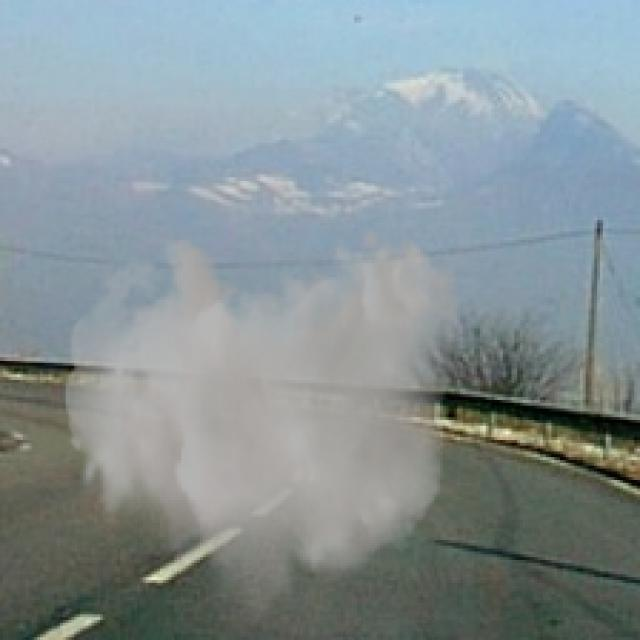Smoke: (66, 226, 463, 628)
